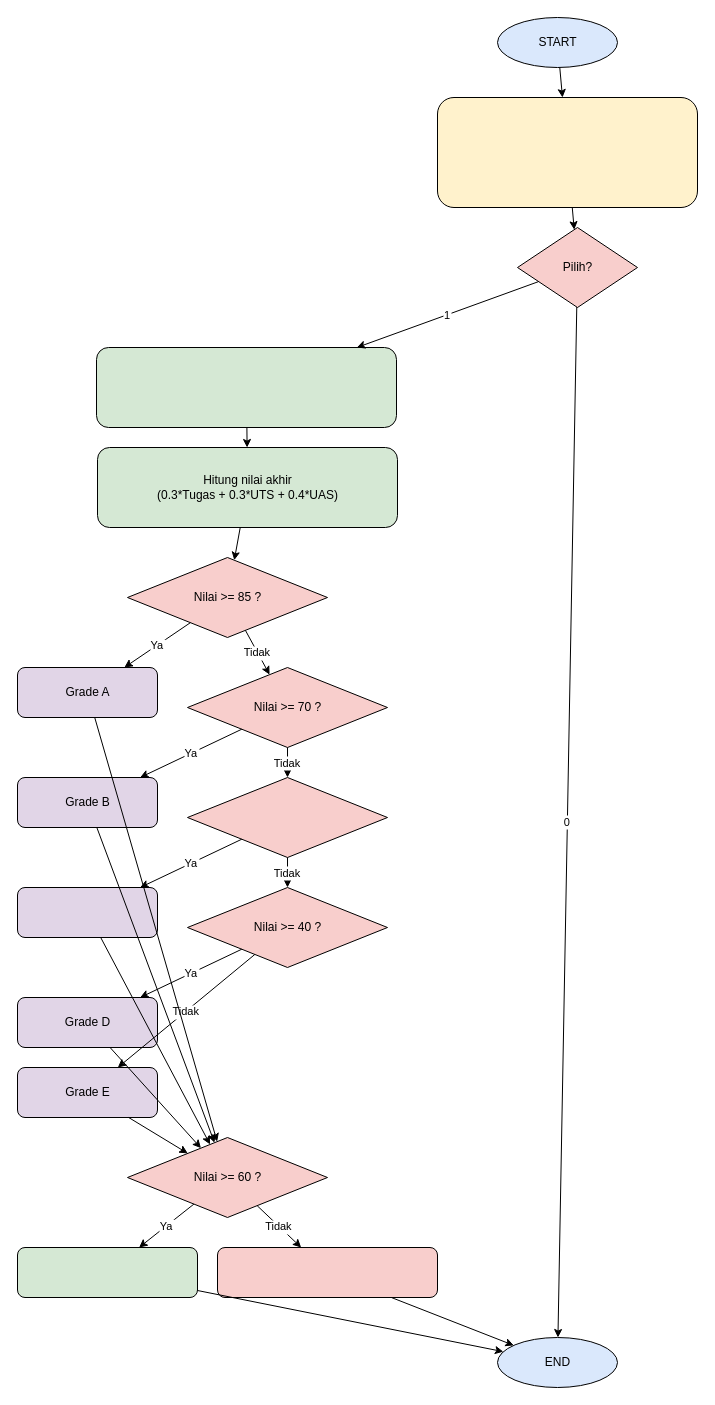
This 715x1405 diagram has some shape labels left out. Here are the shapes that lost their labels. From the top down, the box of each, then its label:
(436, 96, 698, 208): Tampilkan Menu 1. Input Data 2. Tampilkan Data 0. Keluar Input pilih
(96, 346, 396, 428): Input jumlah mahasiswa Input nama,nim, tugas, UTS, UAS
(186, 776, 388, 858): Nilai >= 55 ?
(16, 886, 158, 938): Grade C
(16, 1246, 198, 1298): Status: LULUS
(216, 1246, 438, 1298): Status: TIDAK LULUS
